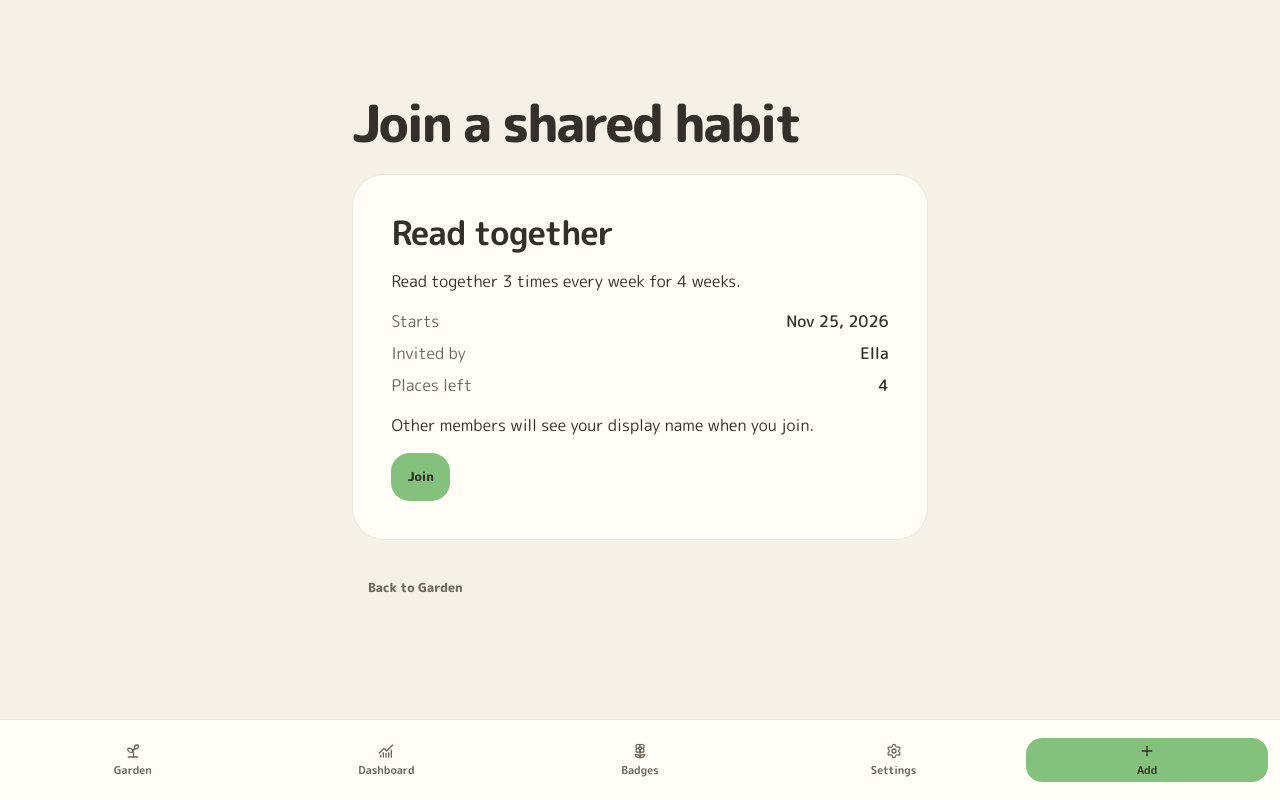
Test: join shared habit (#275) › handles a 409 join failure after the preview was loaded
Click the button "Join" at [421, 477], box [391, 453, 450, 501]
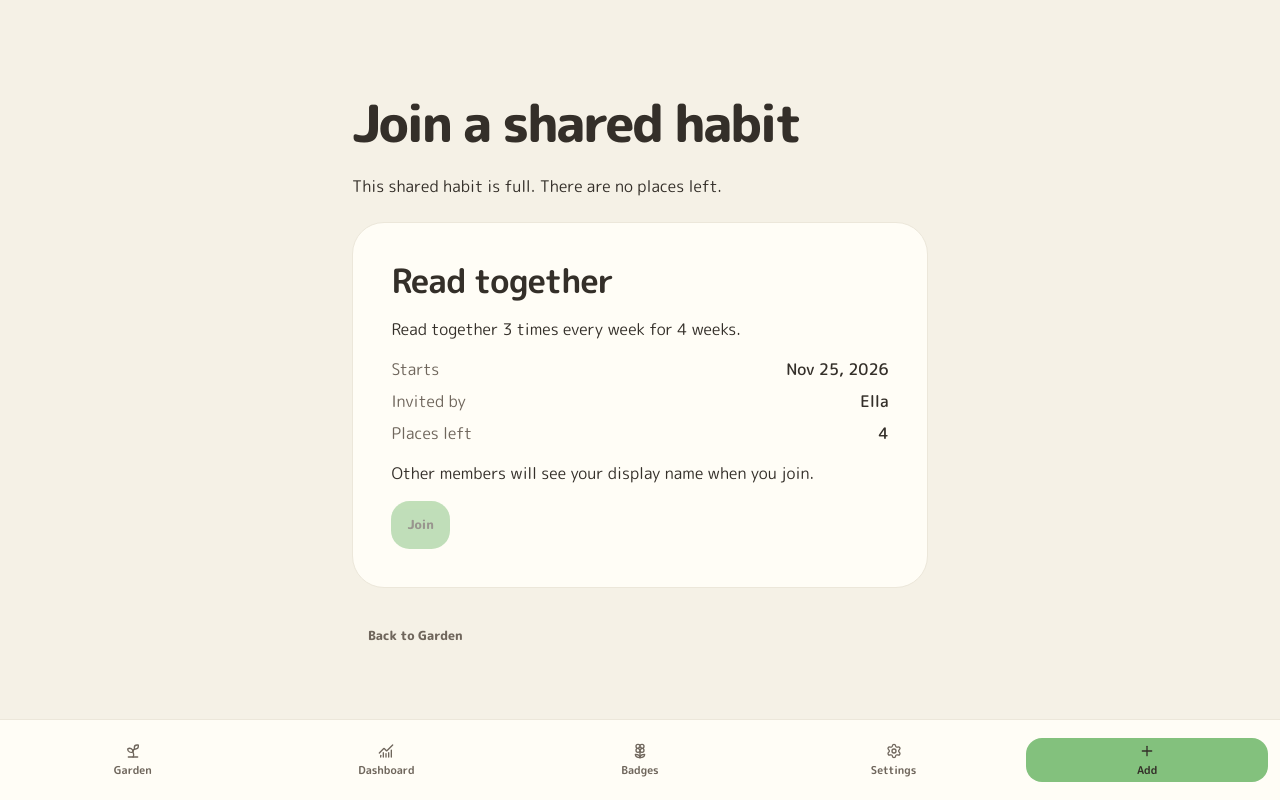
Expected: the message shows "This shared habit is full", [352, 175, 722, 197]
Expected: the button "Join" is disabled, [391, 501, 450, 549]
